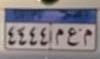4: (39, 26, 49, 47), (17, 26, 27, 47), (28, 26, 38, 46), (7, 26, 16, 46)
ain: (67, 26, 79, 47)
meem: (82, 27, 92, 47), (54, 27, 64, 46)
